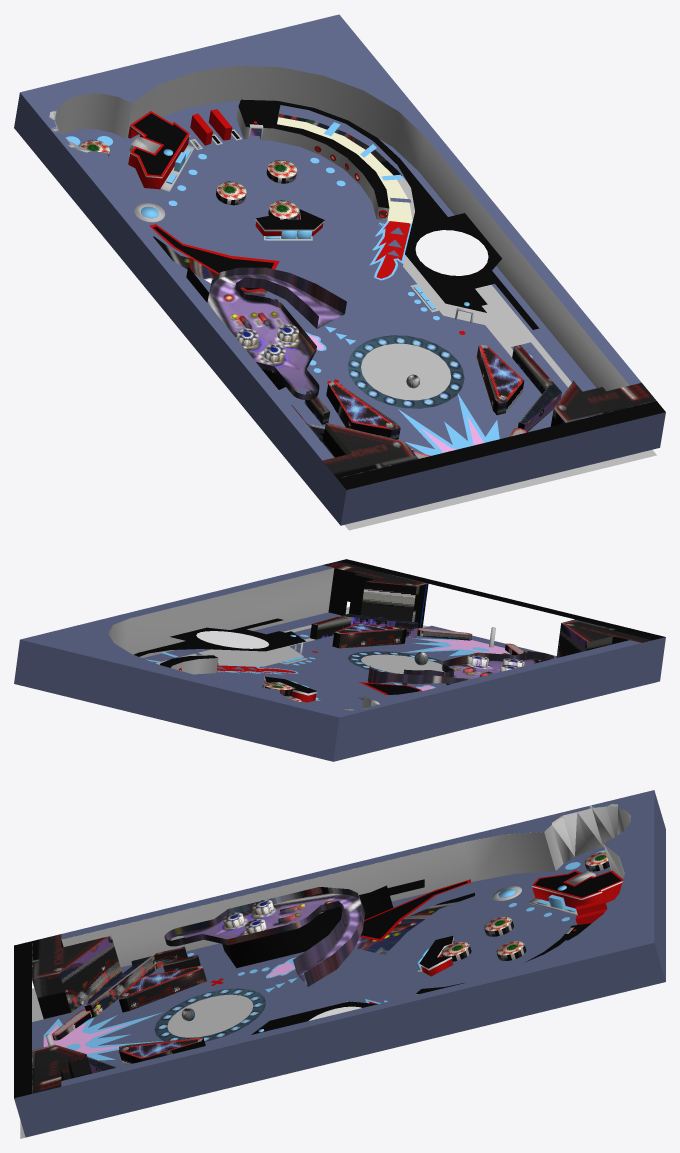
File: pinball_map_v4.glb
The picture shows the model from 3 angles, top to bottom: view 1: azimuth 30°, elevation 25°; view 2: azimuth 150°, elevation 25°; view 3: azimuth 270°, elevation 25°; orthographic projection. The views are drawn at different scales.
Parts seen in each view (by area): view 1: wall_main, floor_playfield, wall_frame_black, Material3.008, floor_base, deco_ramp, wall_shooter, floor_merged, wall_panel, Material5.002, Material3.012, bumper_group (+2 smaller); view 2: wall_main, floor_playfield, wall_frame_black, Material3.008, deco_ramp, floor_base, Material4, Material5, Material6, floor_merged, wall_panel, Material4.002 (+6 smaller); view 3: wall_main, floor_playfield_left, wall_frame_black, deco_ramp, Material3.008, floor_playfield, floor_base, wall_shooter, Material7.002, floor_merged, Material3.007, Material5.002 (+6 smaller).
Boxes of the visible parts, bbox=[...] form: wall_main: bbox=[14, 14, 665, 525]; floor_playfield: bbox=[49, 65, 629, 391]; wall_frame_black: bbox=[133, 99, 665, 489]; Material3.008: bbox=[153, 113, 656, 478]; floor_base: bbox=[264, 176, 656, 530]; deco_ramp: bbox=[207, 267, 346, 399]; wall_shooter: bbox=[128, 109, 465, 385]; floor_merged: bbox=[66, 122, 532, 455]; wall_panel: bbox=[130, 125, 488, 275]; Material5.002: bbox=[328, 345, 524, 429]; Material3.012: bbox=[277, 117, 412, 223]; bumper_group: bbox=[80, 140, 298, 218]; wall_main: bbox=[14, 565, 665, 761]; floor_playfield: bbox=[108, 568, 495, 710]; wall_frame_black: bbox=[134, 559, 665, 694]; Material3.008: bbox=[312, 561, 655, 699]; deco_ramp: bbox=[367, 651, 553, 685]; floor_base: bbox=[156, 607, 654, 700]; Material4: bbox=[360, 581, 416, 621]; Material5: bbox=[310, 568, 629, 644]; Material6: bbox=[316, 583, 612, 650]; floor_merged: bbox=[146, 634, 488, 699]; wall_panel: bbox=[196, 631, 317, 695]; Material4.002: bbox=[339, 630, 402, 648]; wall_main: bbox=[14, 790, 665, 1137]; floor_playfield_left: bbox=[61, 832, 555, 967]; wall_frame_black: bbox=[14, 872, 620, 1098]; deco_ramp: bbox=[164, 887, 365, 986]; Material3.008: bbox=[32, 892, 474, 1093]; floor_playfield: bbox=[46, 804, 630, 1045]; floor_base: bbox=[20, 970, 422, 1138]; wall_shooter: bbox=[211, 870, 622, 1003]; Material7.002: bbox=[59, 936, 122, 1012]; floor_merged: bbox=[43, 850, 605, 1060]; Material3.007: bbox=[32, 958, 199, 1080]; Material5.002: bbox=[119, 965, 202, 1058].
Size of the model in its own units: 28.58 by 17.34 by 51.53.
95 materials, 87 textured.
